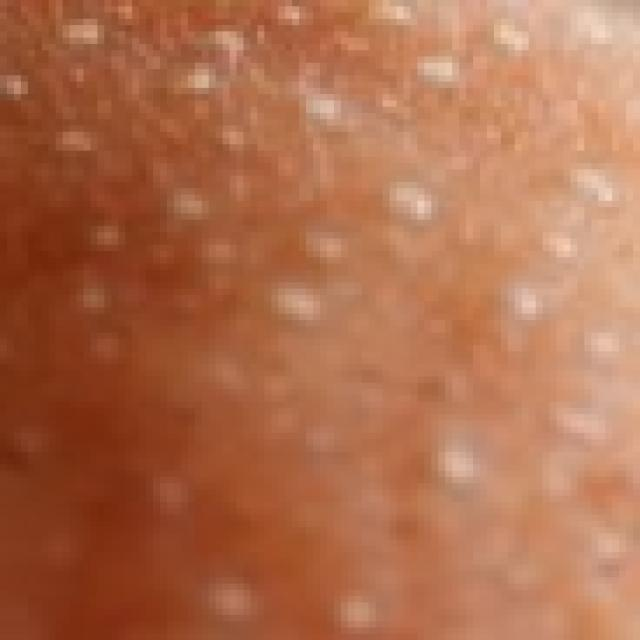whitehead: (30, 10, 628, 546)
